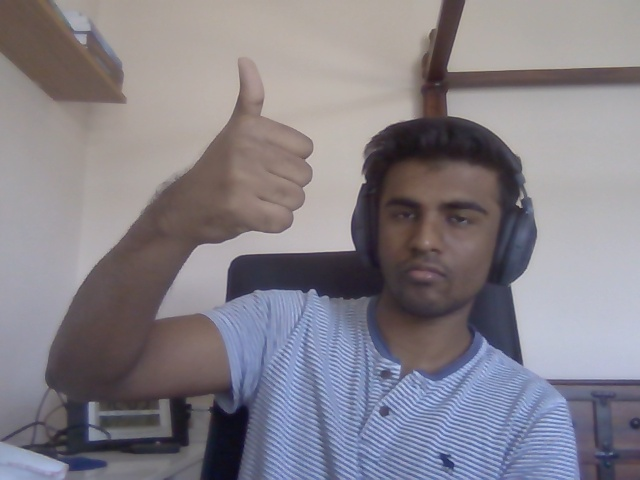Yes: (191, 55, 314, 246)
